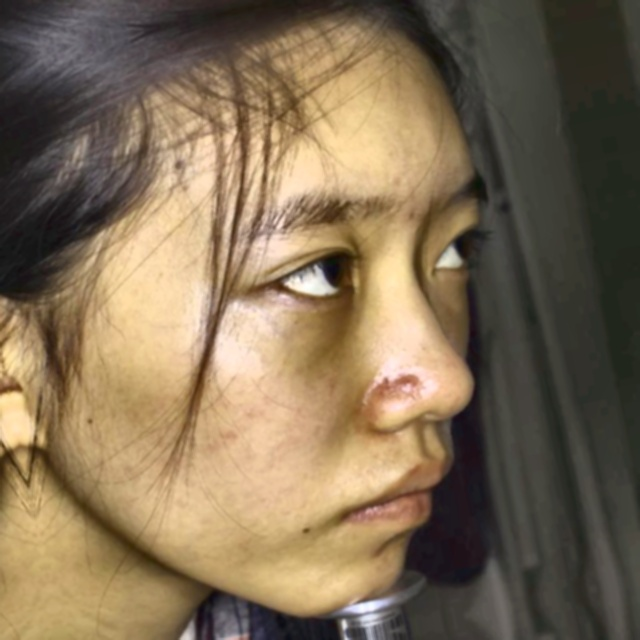comedone: (378, 198, 426, 234), (389, 366, 424, 399)
